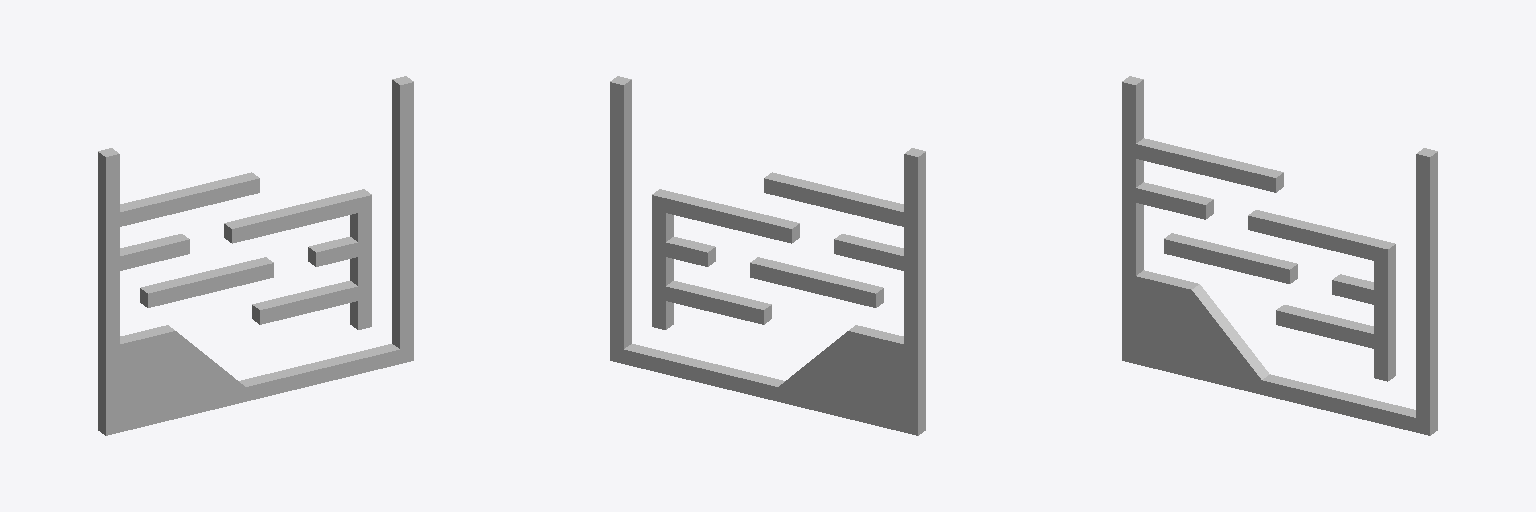
File: Prototype Scene.obj
3 views of the same model, side by side, from view 1: azimuth 30°, elevation 25°; view 2: azimuth 150°, elevation 25°; view 3: azimuth 330°, elevation 25° (orthographic).
Parts seen in each view (by area): view 1: Cube; view 2: Cube; view 3: Cube.
Boxes of the visible parts, box(x1,y1,x2,y2) form: Cube: box(98, 76, 413, 435); Cube: box(610, 76, 925, 435); Cube: box(1122, 76, 1437, 435).
Bounding box in the file's own units: 22 × 19 × 1.